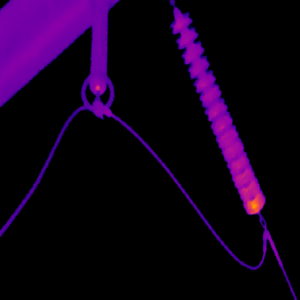insulator: (170, 5, 266, 216)
